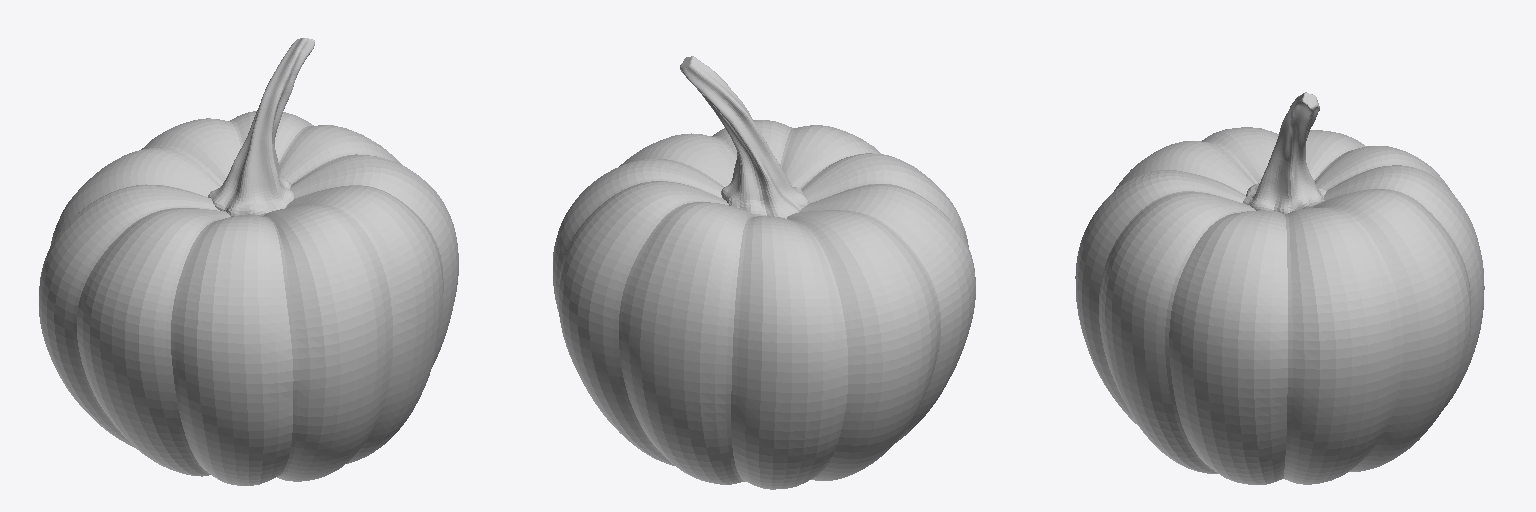
The model's file is pumpkin .obj.
3 views of the same model, side by side, from view 1: azimuth 30°, elevation 25°; view 2: azimuth 150°, elevation 25°; view 3: azimuth 270°, elevation 25° (orthographic).
Visible parts, largest first — view 1: Circle.002, Circle.003; view 2: Circle.002, Circle.003; view 3: Circle.002, Circle.003.
Part boxes in pixels (x1,y1,x2,y2): Circle.002: (39,111,458,485); Circle.003: (208,38,314,216); Circle.002: (553,120,975,489); Circle.003: (680,56,809,218); Circle.002: (1075,127,1484,484); Circle.003: (1243,92,1326,213).
Bounding box in the file's own units: 0.5061 × 0.5141 × 0.4919.